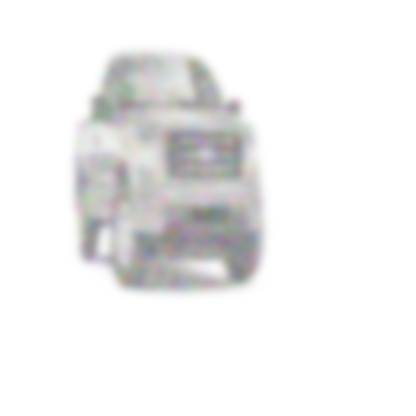Vehicle: (72, 46, 268, 306)
